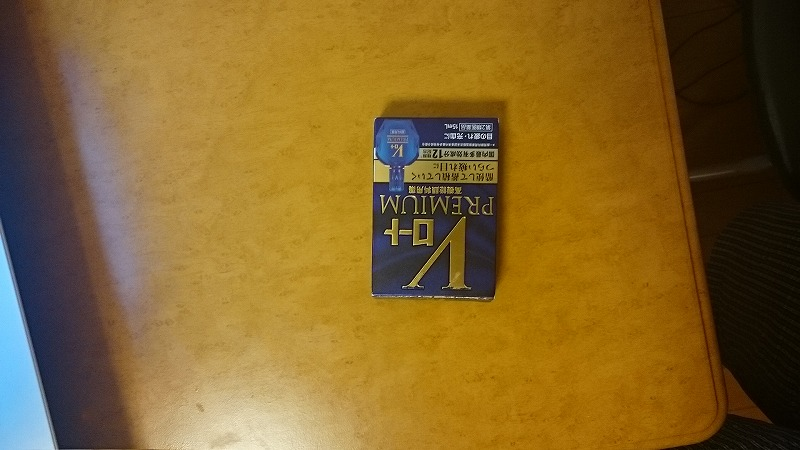D: (368, 112, 500, 306)
